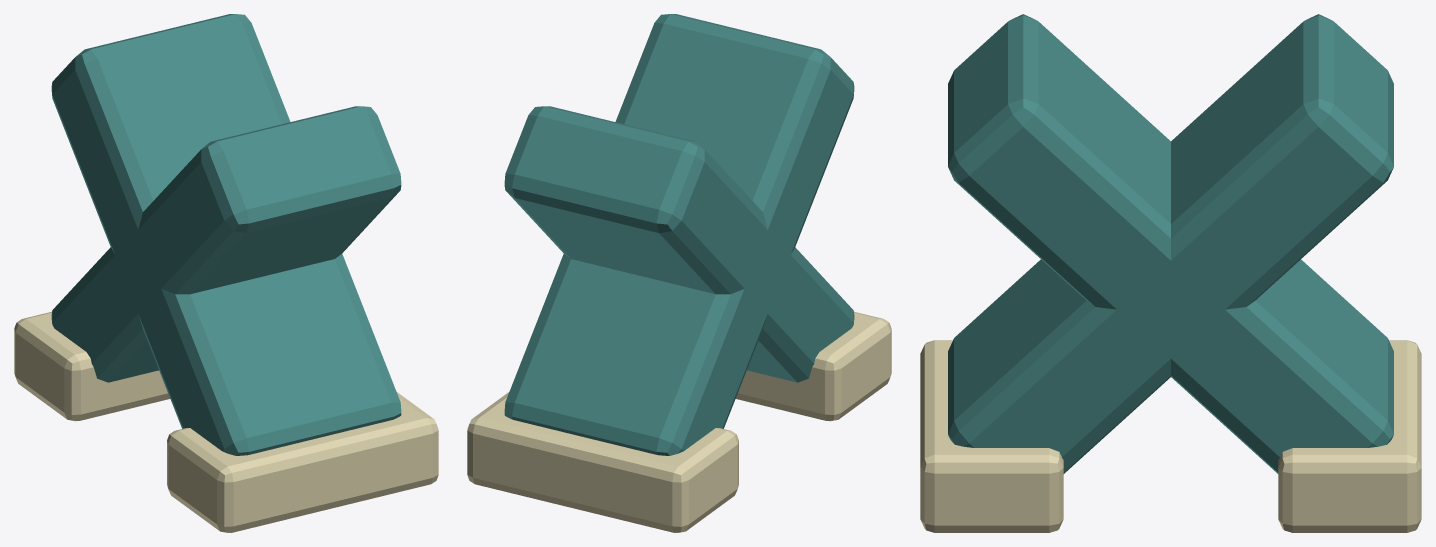
File: cavaletti-block.glb
The picture shows the model from 3 angles, left to right: view 1: azimuth 30°, elevation 25°; view 2: azimuth 150°, elevation 25°; view 3: azimuth 270°, elevation 25°; orthographic projection. The views are drawn at different scales.
Visible parts, largest first — view 1: Cavaletti_Block_L; view 2: Cavaletti_Block_L; view 3: Cavaletti_Block_L.
Part boxes in pixels (box(x1,y1,x2,y2)): Cavaletti_Block_L: box(14, 14, 438, 532); Cavaletti_Block_L: box(467, 14, 891, 532); Cavaletti_Block_L: box(920, 14, 1421, 532).
Size of the model in its own units: 0.25 by 0.387 by 0.42.
